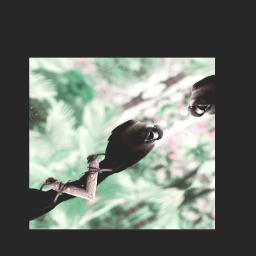Crow: (62, 108, 174, 192)
